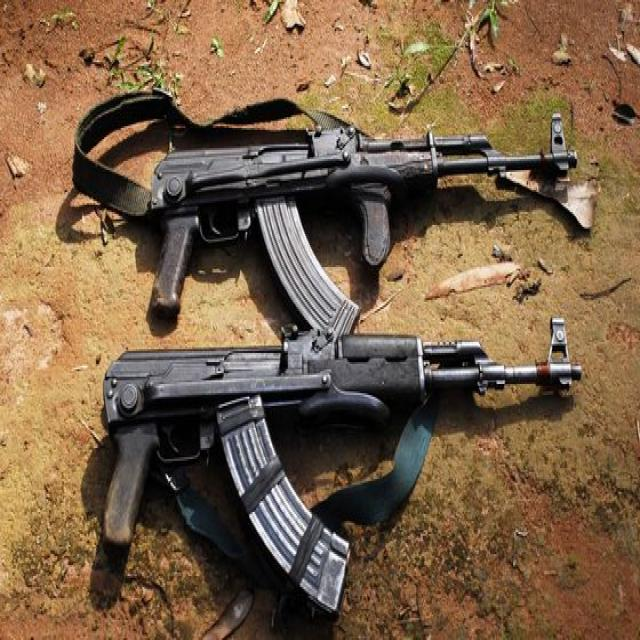firearm: (104, 318, 584, 614), (148, 112, 578, 334)
